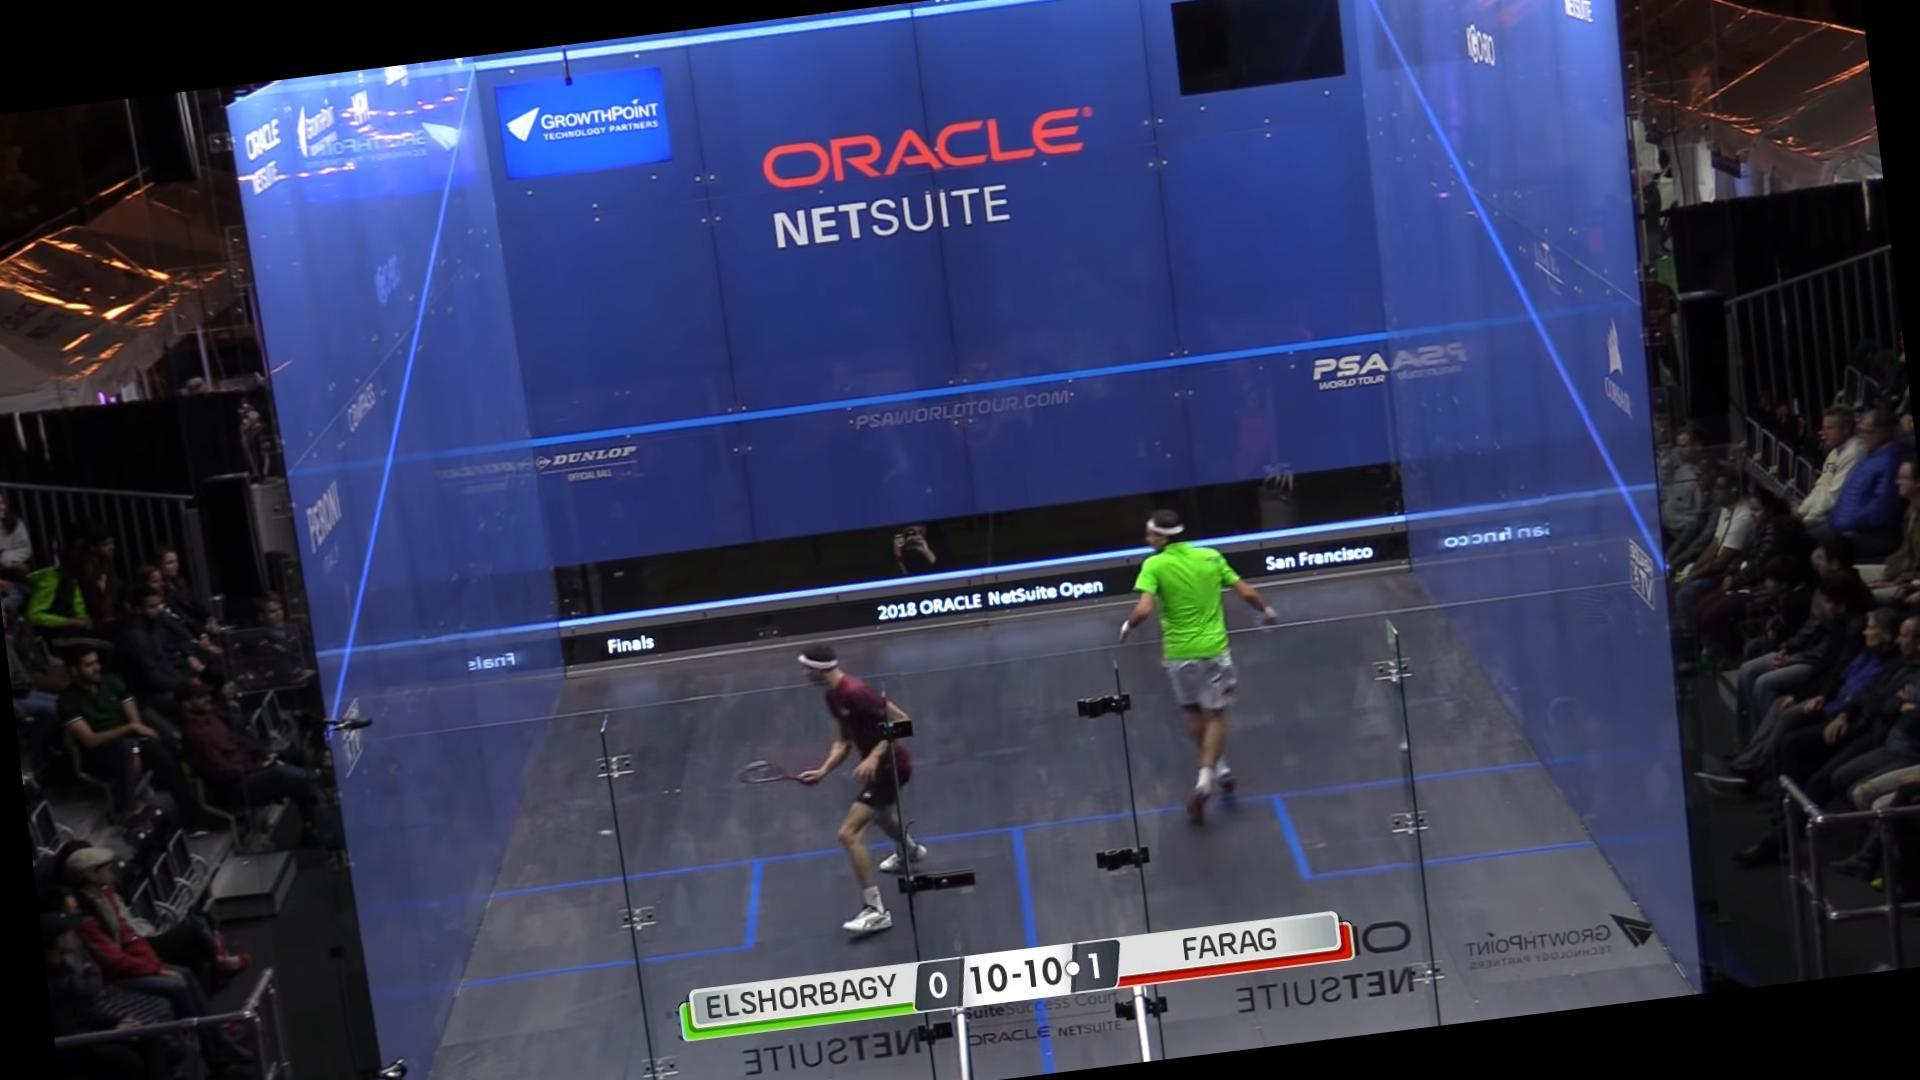Squash-Ball: (588, 820, 618, 848)
